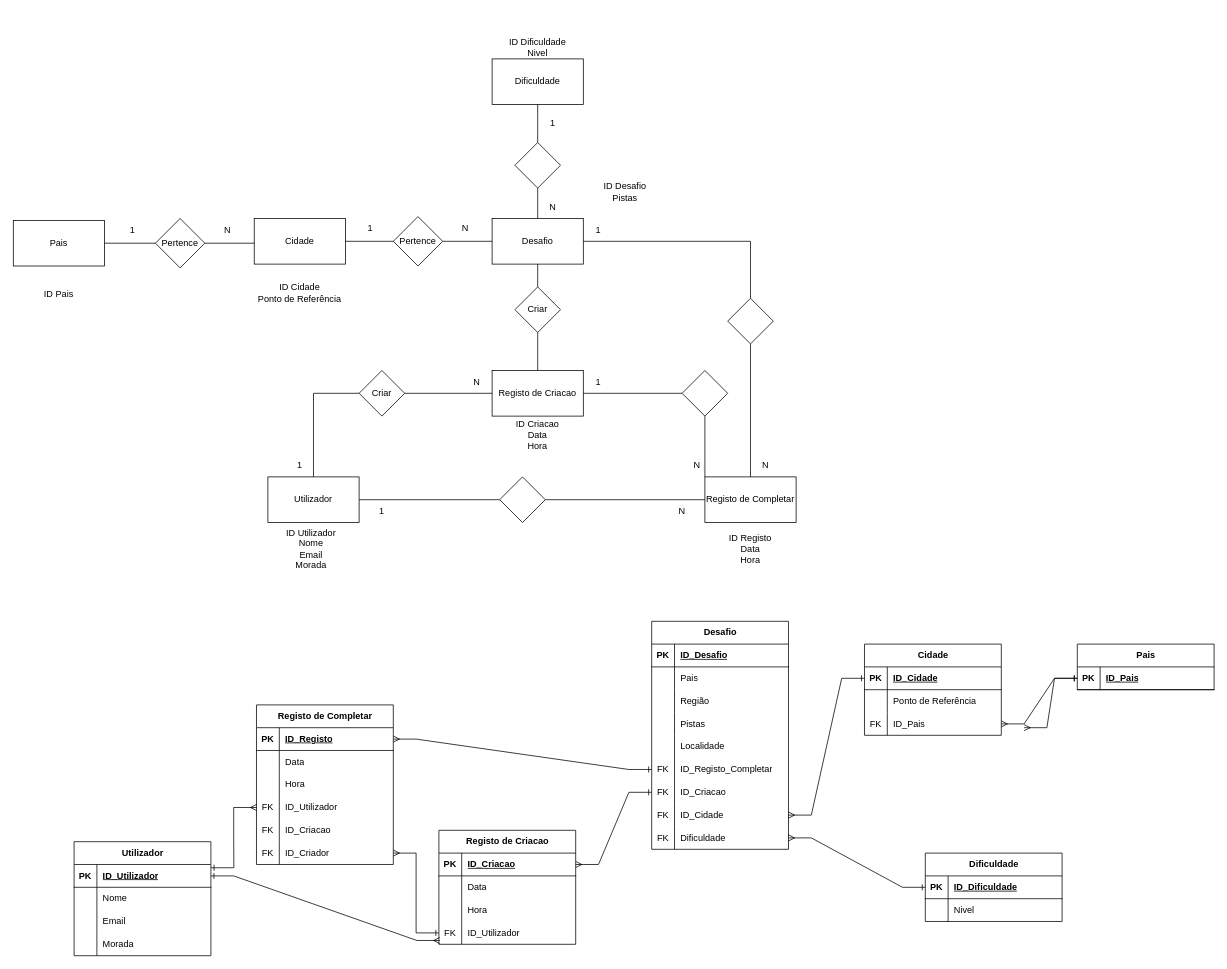
Image size: 1227x969. Some labels were removed from this diagram. Each missing label, with the box of its shape:
Completa: (727, 298, 773, 344)
Regista: (499, 476, 545, 522)
Tem: (514, 142, 560, 188)
Validar: (681, 370, 728, 416)
